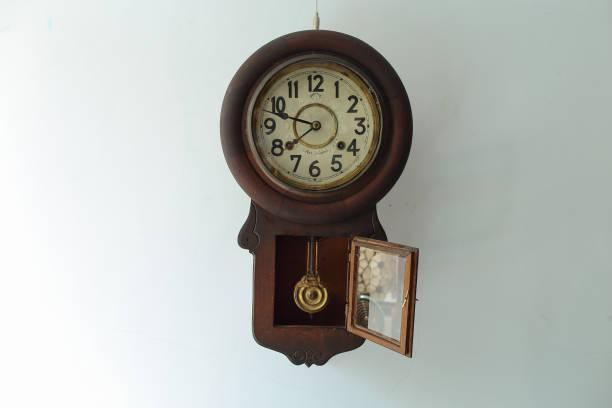clock: (244, 55, 387, 199)
